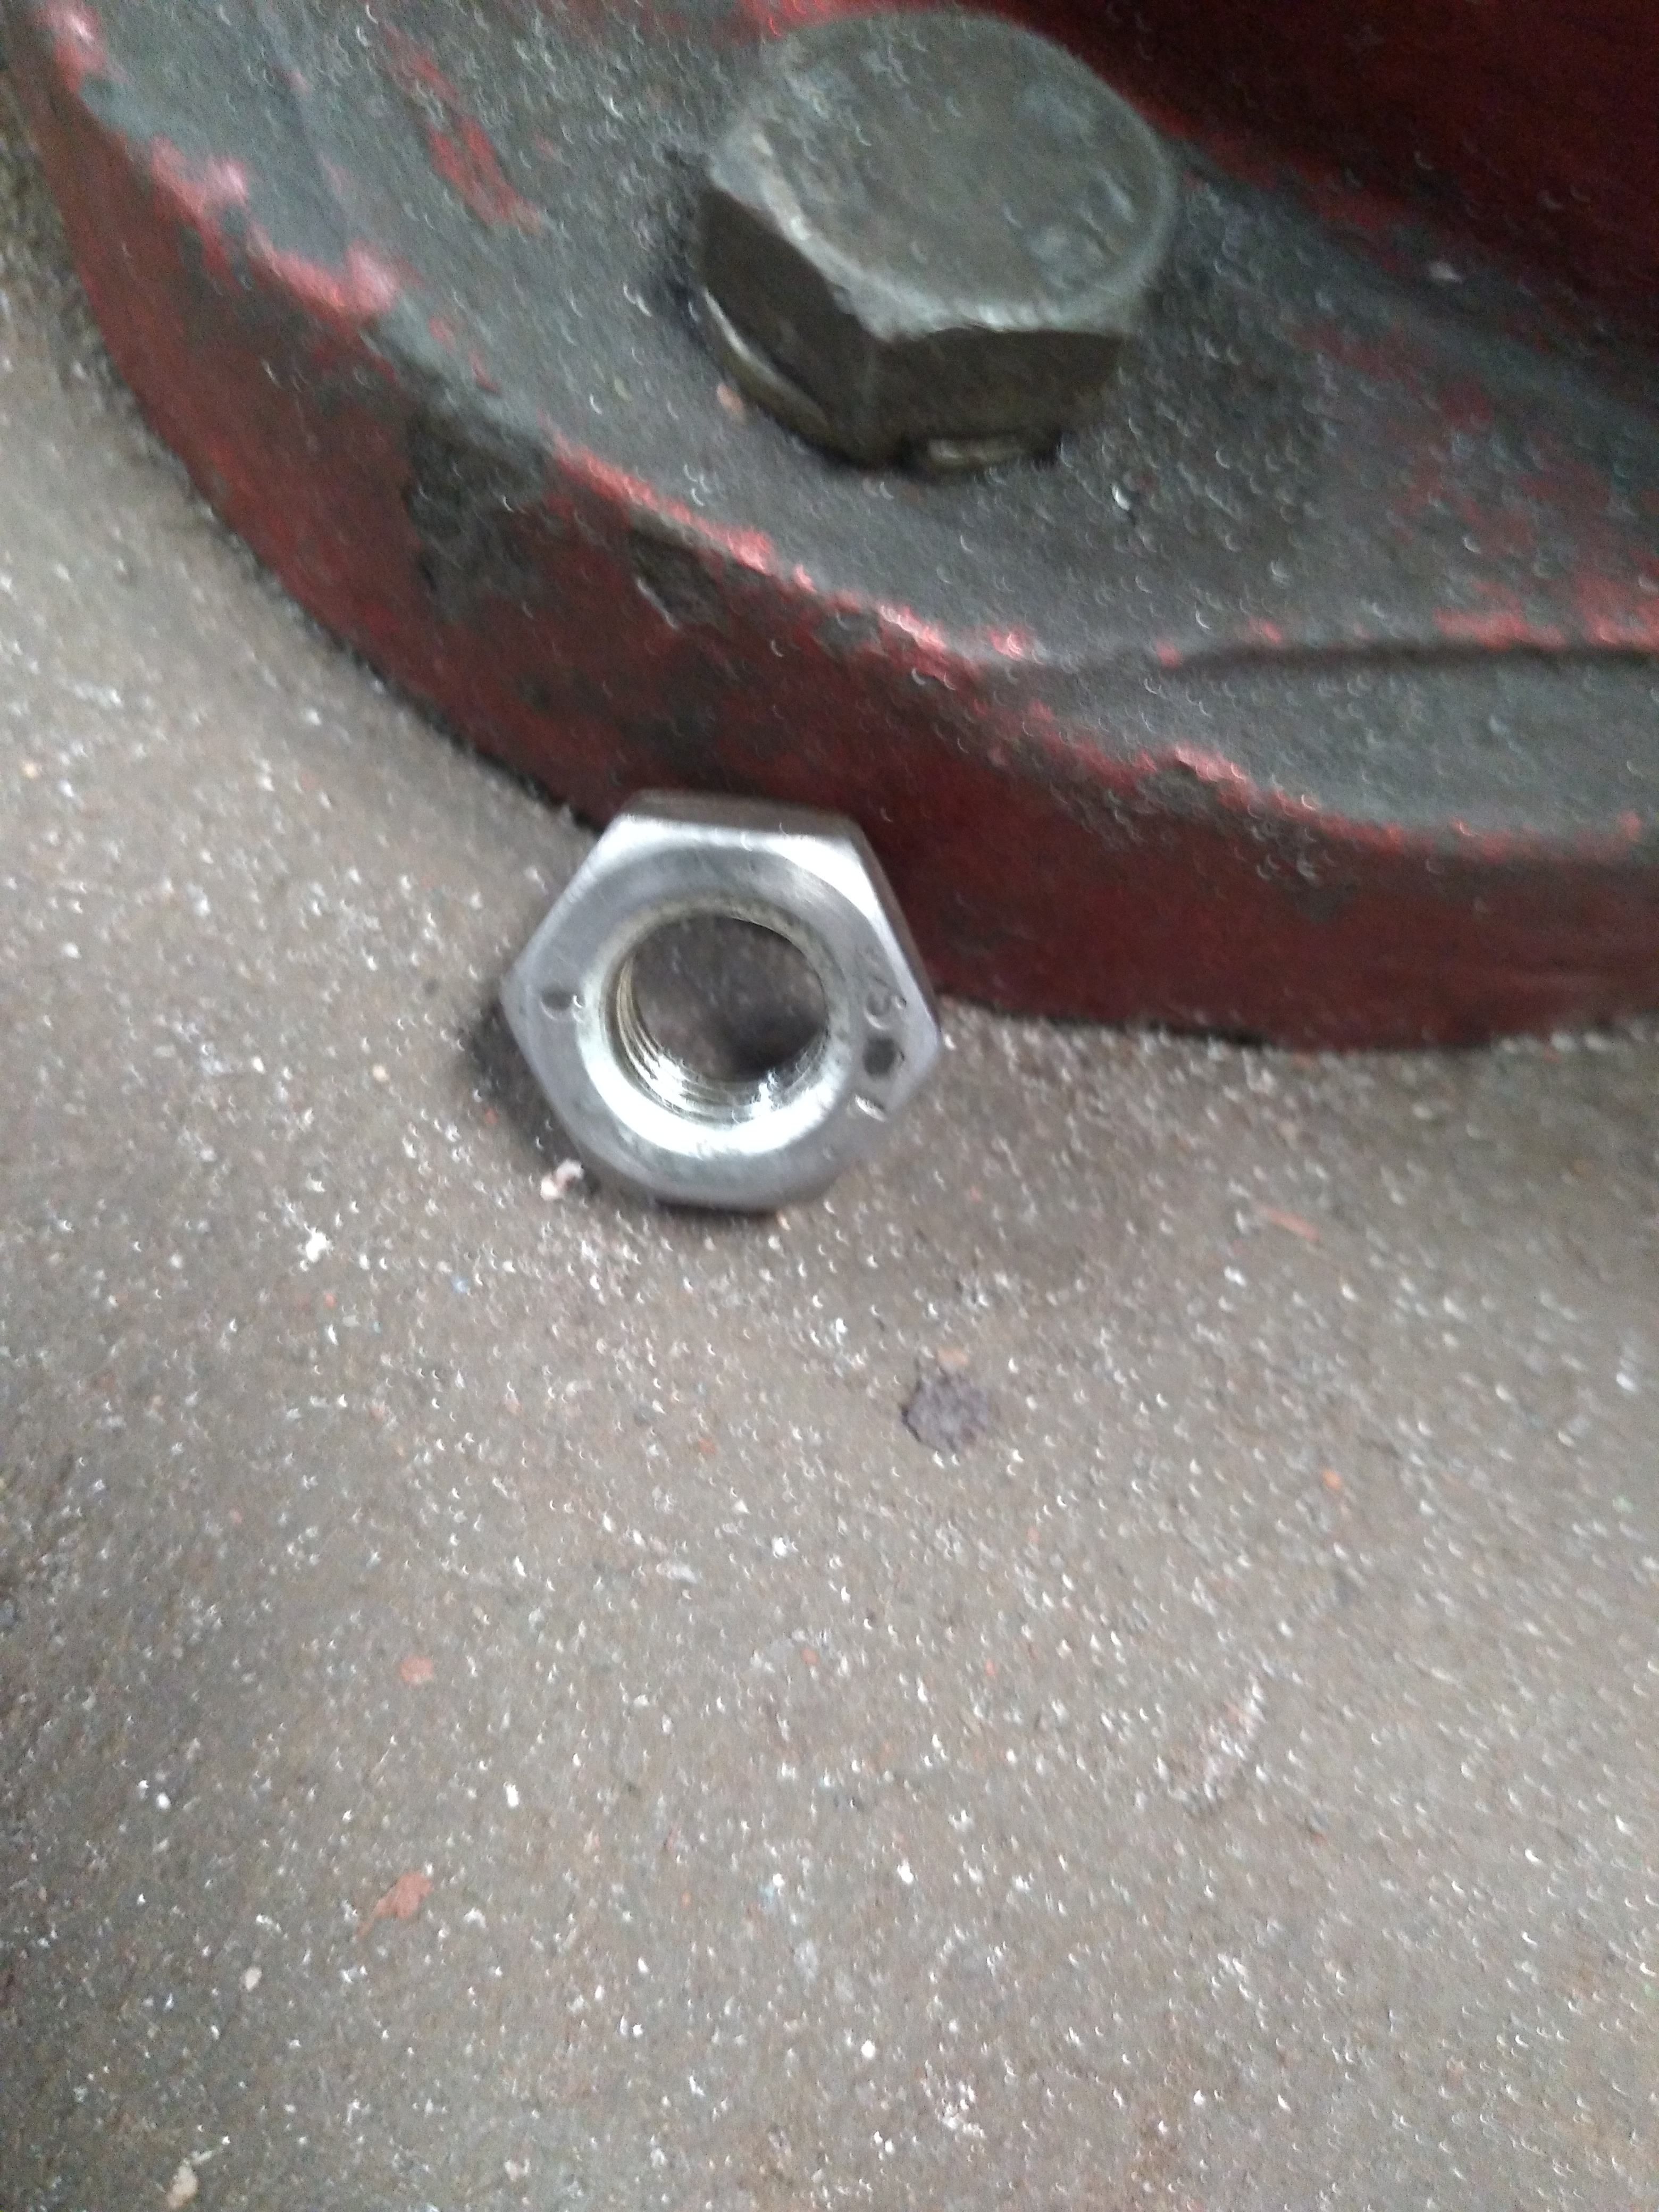Thread: (587, 881, 845, 1153)
